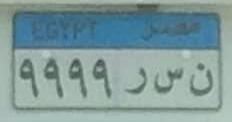9: (41, 55, 65, 102), (89, 55, 113, 101), (66, 56, 89, 102), (17, 57, 41, 99)
noon: (186, 60, 215, 101)
raa: (122, 64, 148, 100)
seen: (152, 65, 184, 97)
